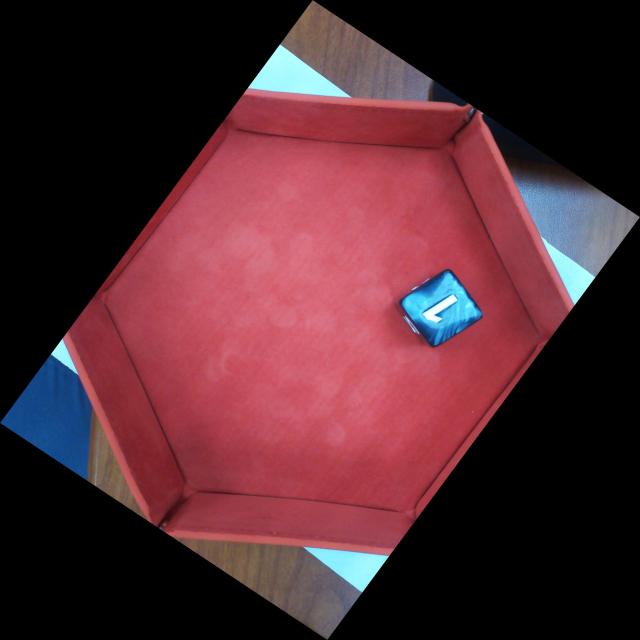dice: (405, 271, 483, 345)
